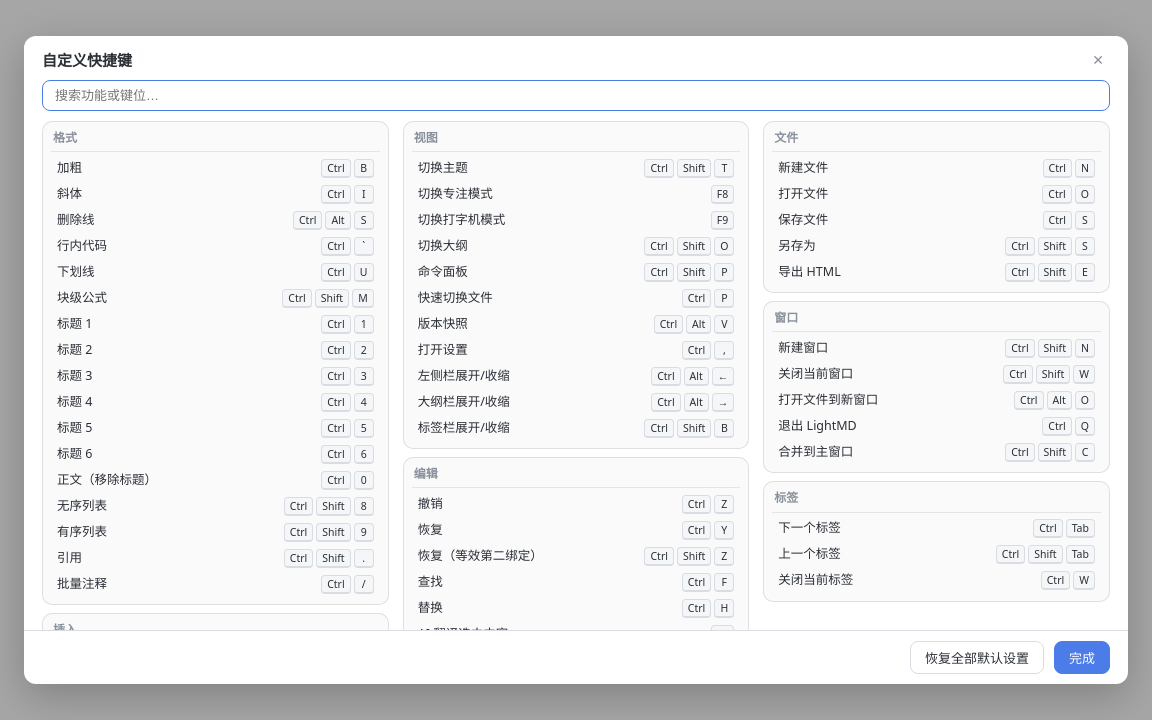
Test: v0.9.0 ShortcutSettingsDialog：录制与冲突（A3/A4） › 点击条目进入录制态，按组合键成功录入并即时生效
Expected: the text "新建文件" is shown, [778, 159, 828, 176]
Click the button "新建文件 Ctrl N".
click(803, 167)  # box [772, 155, 1101, 181]
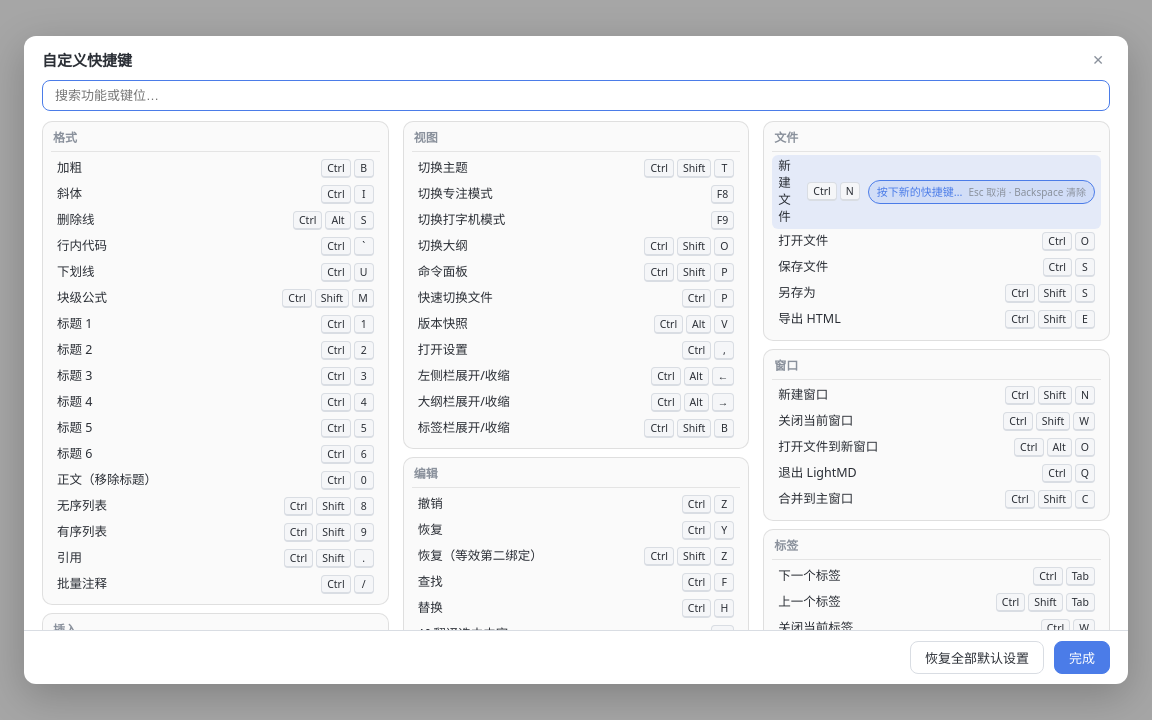
Expected: the element with class "shortcut-settings-recording-pill" is shown, [868, 180, 1095, 204]
Press j
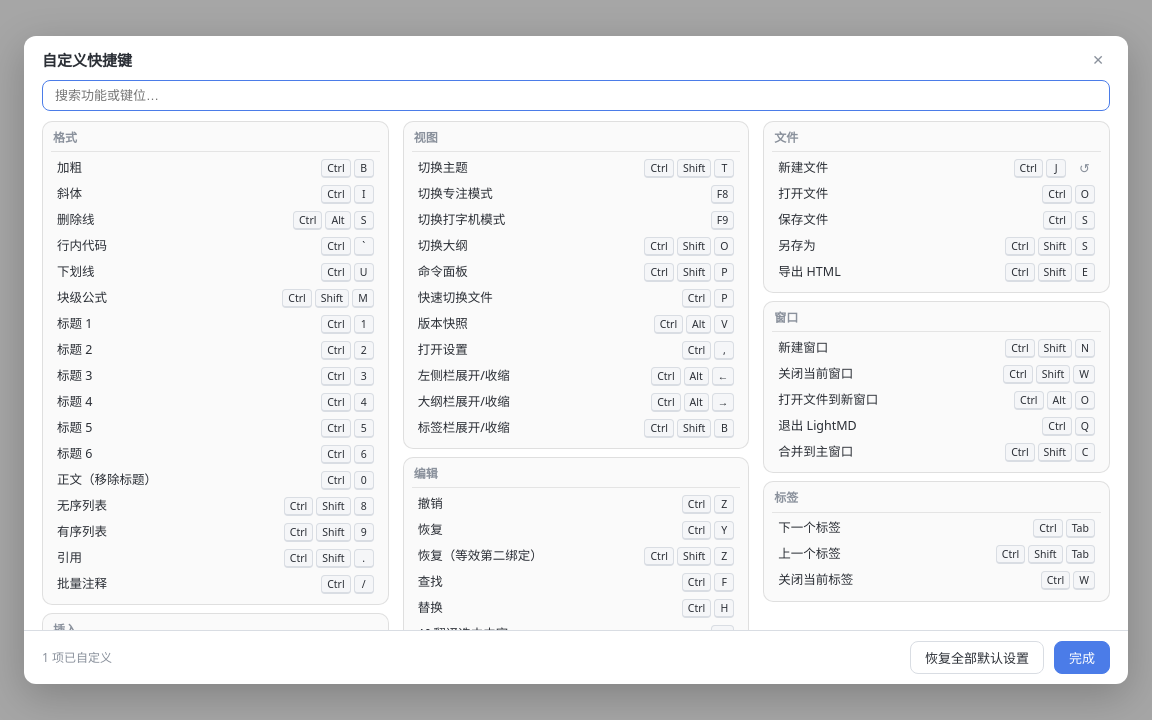
Expected: the element with class "shortcut-settings-recording-pill" is gone
